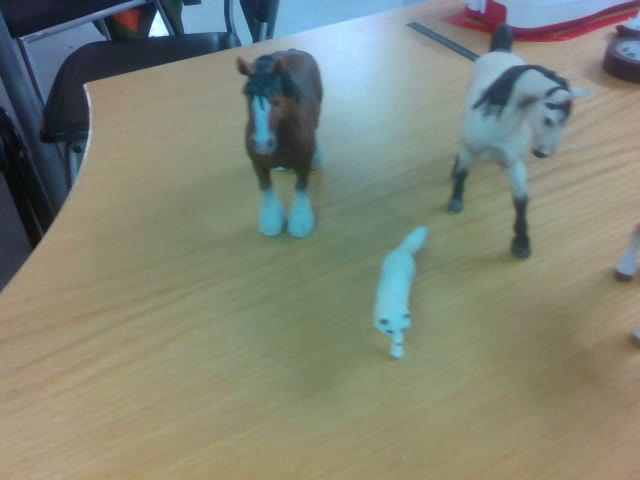toy: (446, 23, 594, 261), (234, 46, 323, 239), (372, 227, 429, 359)
